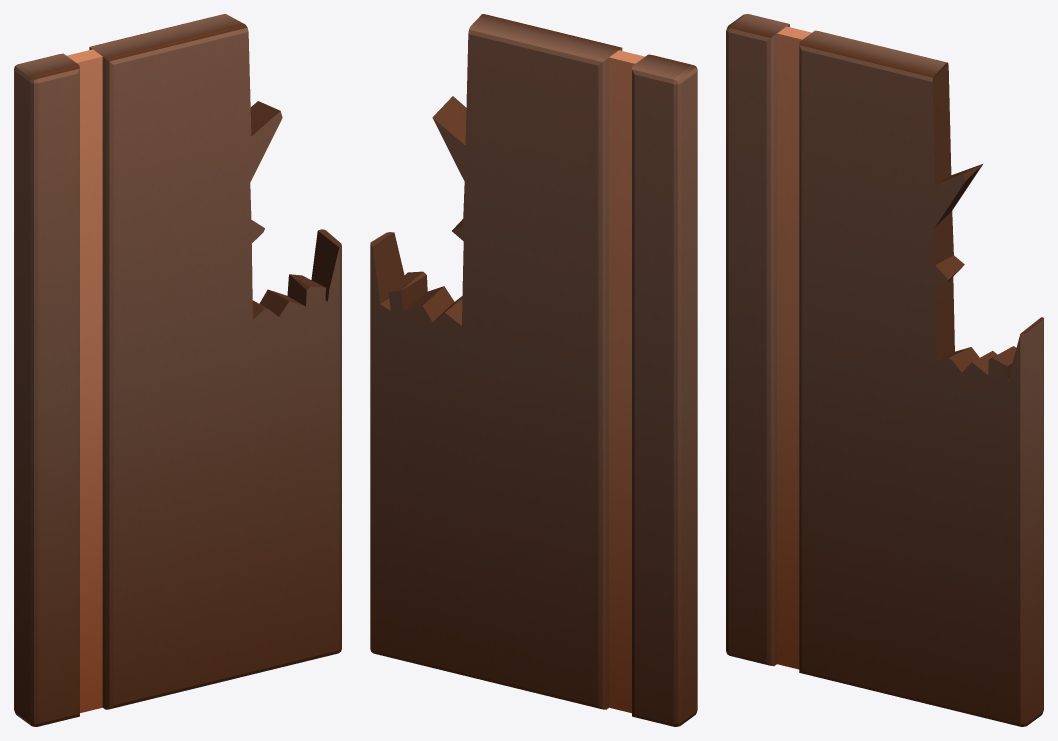
The model's file is Mod_Door_02.fbx.
The picture shows the model from 3 angles, left to right: view 1: azimuth 30°, elevation 25°; view 2: azimuth 150°, elevation 25°; view 3: azimuth 330°, elevation 25°; orthographic projection. The views are drawn at different scales.
Visible parts, largest first — view 1: Mod_Door_02; view 2: Mod_Door_02; view 3: Mod_Door_02.
Part boxes in pixels (<box>): Mod_Door_02: <box>14,14,341,726</box>; Mod_Door_02: <box>370,14,697,726</box>; Mod_Door_02: <box>726,14,1043,726</box>.
Size of the model in its own units: 100 by 200 by 12.
